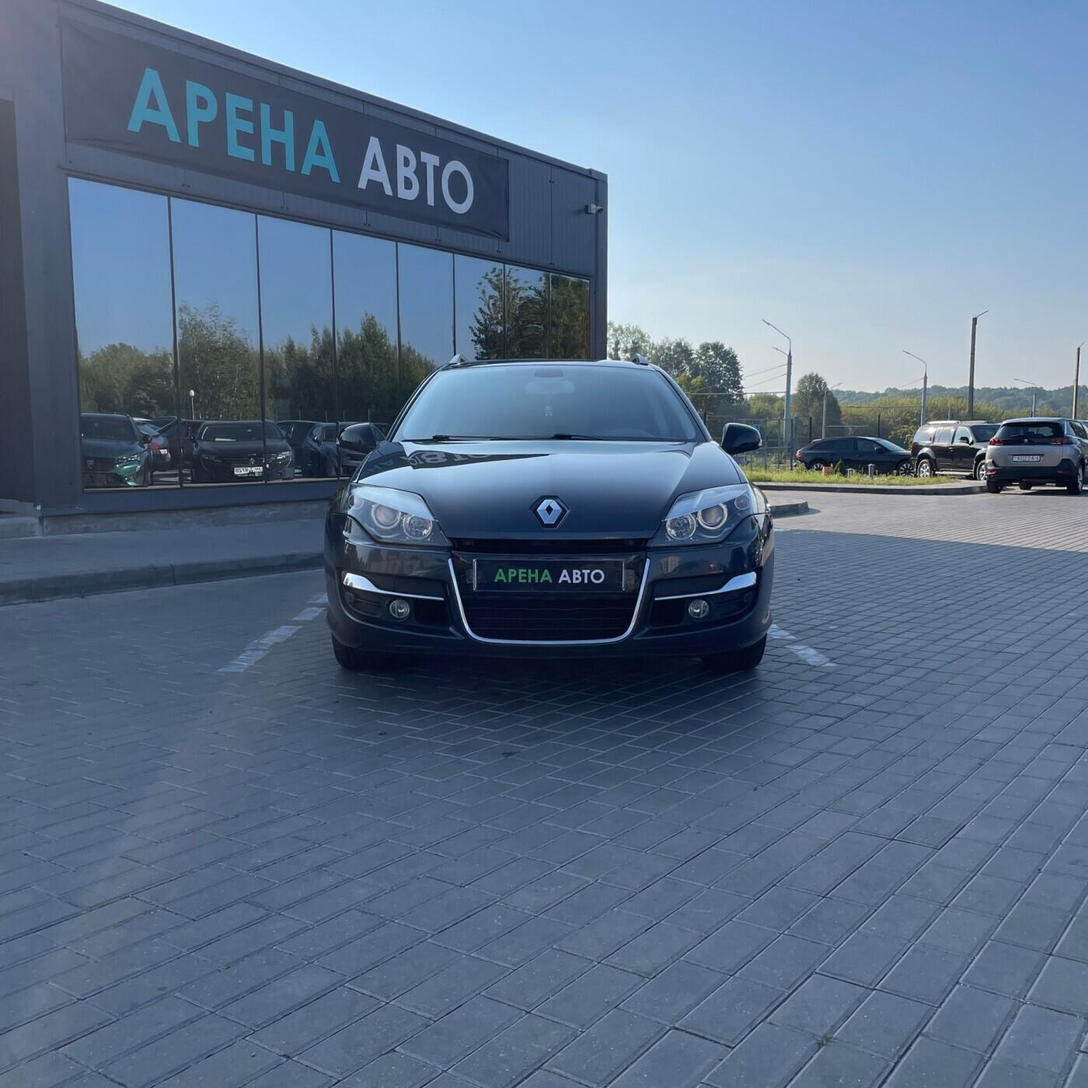Laguna_2010-2015: (308, 343, 810, 690)
